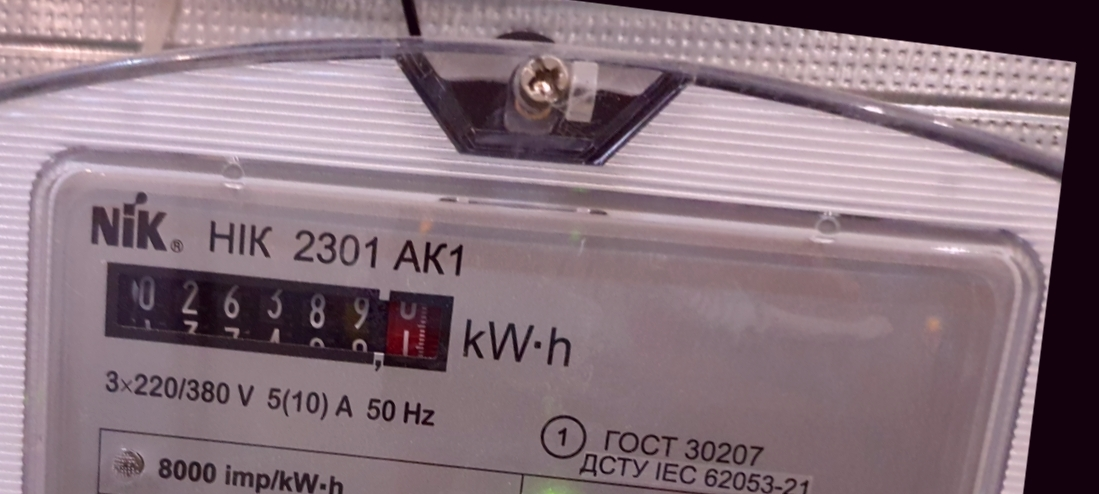0: (134, 271, 162, 313), (398, 298, 419, 321)
1: (398, 325, 415, 358)
2: (178, 275, 206, 317)
3: (265, 285, 286, 321)
6: (222, 280, 244, 321)
8: (307, 290, 332, 330)
9: (350, 294, 372, 330)
screen: (84, 240, 473, 391)
